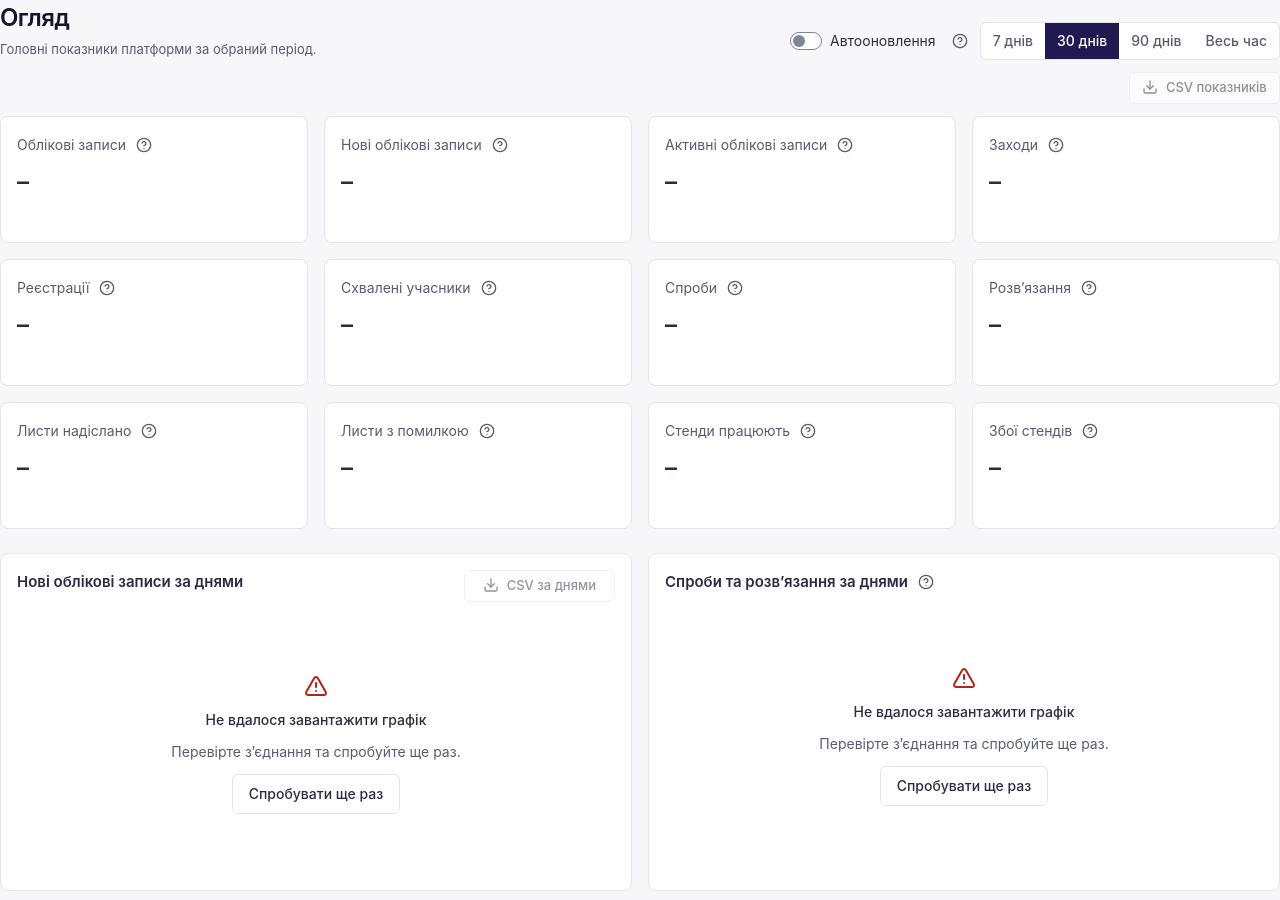
Test: analytics overview page › shows the error state with a retry and reloads
Click the button "Спробувати ще раз" below "Нові облікові записи за днями" at coordinates (316, 794), box [232, 774, 400, 814]
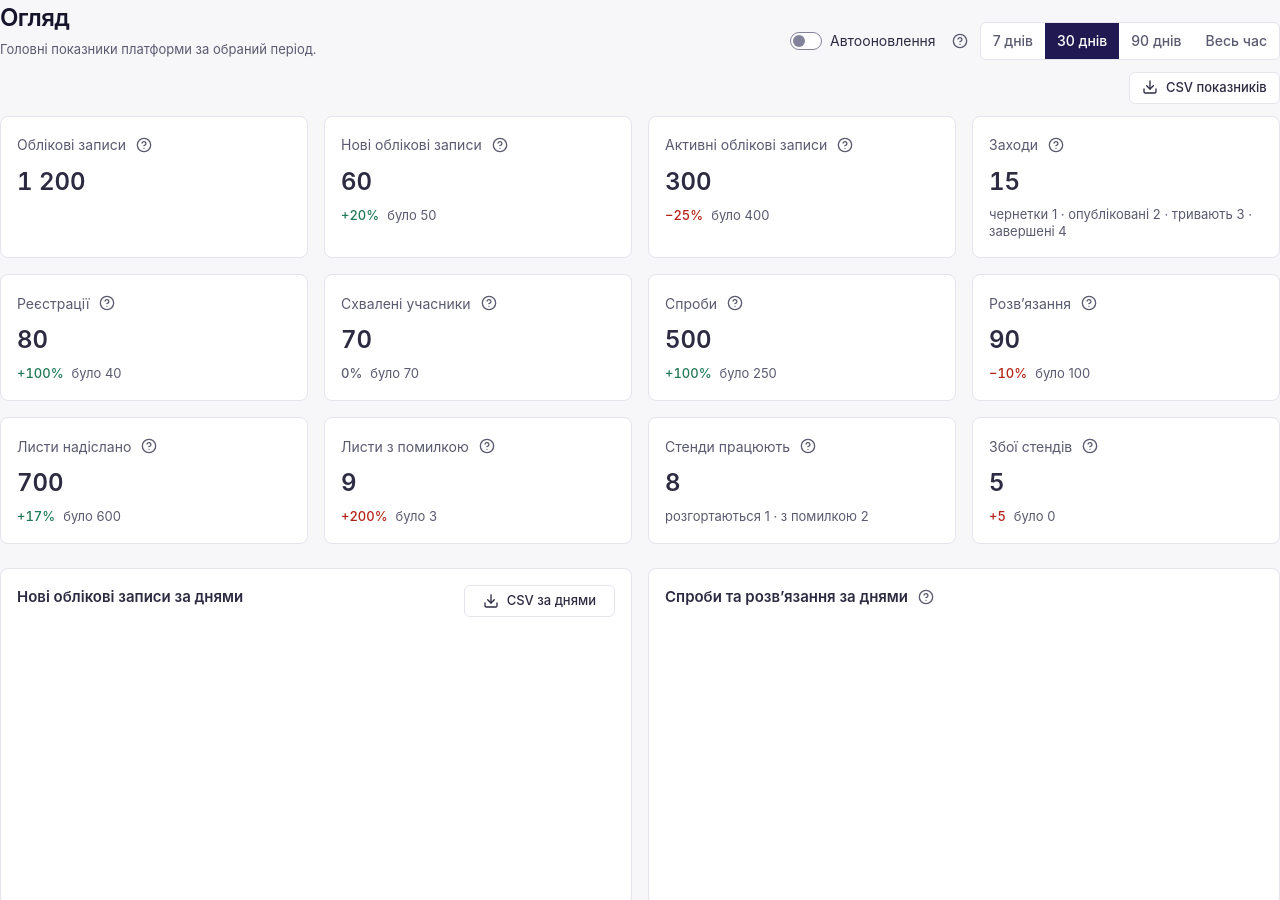
Check: the text "1 200" is shown, box [17, 166, 86, 196]
